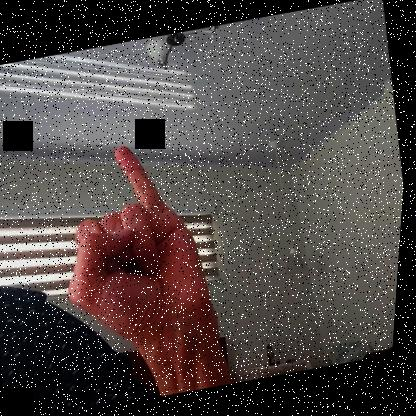I: (46, 130, 233, 344)
